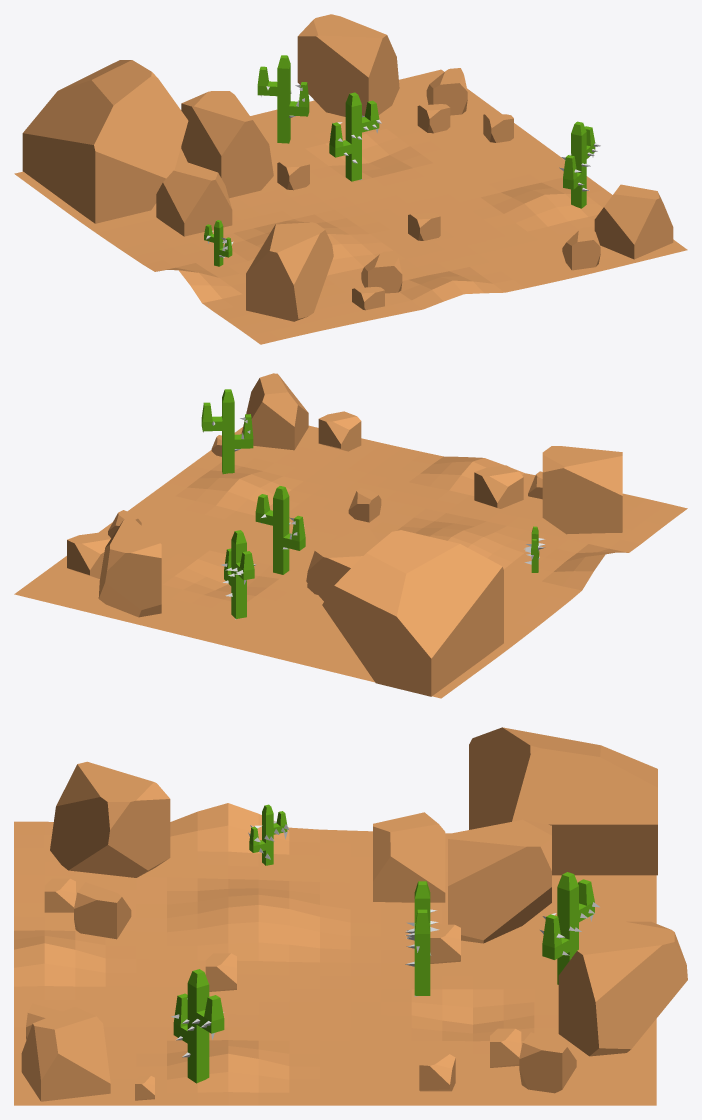
File: desert.gltf
3 renders of one model, top to bottom at view 1: azimuth 30°, elevation 25°; view 2: azimuth 150°, elevation 25°; view 3: azimuth 270°, elevation 25°, orthographic. The views are drawn at different scales.
Parts seen in each view (by area): view 1: Plane, Cube.006, Cube.019, Cube.011, Cube.007, Cube.010, Cube.008, Sphere, Sphere.002, Sphere.003, Cube.017, Cube.013 (+7 smaller); view 2: Plane, Cube.006, Cube.011, Cube.019, Cube.010, Cube.007, Sphere, Sphere.003, Cube.013, Sphere.002, Cube.017, Cube.015 (+1 smaller); view 3: Plane, Cube.006, Cube.019, Cube.011, Cube.007, Cube.010, Cube.008, Sphere.003, Sphere.002, Cube.017, Cube.013, Sphere (+6 smaller).
Part boxes in pixels (<box>): Plane: <box>14,69,687,344</box>; Cube.006: <box>22,60,188,223</box>; Cube.019: <box>297,14,399,116</box>; Cube.011: <box>246,221,333,321</box>; Cube.007: <box>181,91,273,198</box>; Cube.010: <box>594,184,673,259</box>; Cube.008: <box>156,162,232,236</box>; Sphere: <box>329,92,379,181</box>; Sphere.002: <box>257,55,309,143</box>; Sphere.003: <box>563,121,595,208</box>; Cube.017: <box>426,68,467,115</box>; Cube.013: <box>361,250,402,293</box>; Plane: <box>14,425,687,698</box>; Cube.006: <box>322,530,503,696</box>; Cube.011: <box>542,446,622,534</box>; Cube.019: <box>98,518,161,617</box>; Cube.010: <box>241,373,308,450</box>; Cube.007: <box>306,527,378,601</box>; Sphere: <box>255,486,305,574</box>; Sphere.003: <box>201,389,253,474</box>; Cube.013: <box>474,465,523,508</box>; Sphere.002: <box>224,530,254,618</box>; Cube.017: <box>67,532,110,578</box>; Cube.015: <box>318,411,361,451</box>; Plane: <box>14,803,656,1105</box>; Cube.006: <box>469,727,657,875</box>; Cube.019: <box>558,921,687,1056</box>; Cube.011: <box>50,761,170,877</box>; Cube.007: <box>448,819,551,943</box>; Cube.010: <box>21,1006,110,1101</box>; Cube.008: <box>373,812,445,902</box>; Sphere.003: <box>173,969,224,1083</box>; Sphere.002: <box>542,872,594,984</box>; Cube.017: <box>519,1032,576,1093</box>; Cube.013: <box>74,882,131,939</box>; Sphere: <box>414,881,430,995</box>.
Size of the model in its own units: 79.38 by 21.1 by 83.26.
